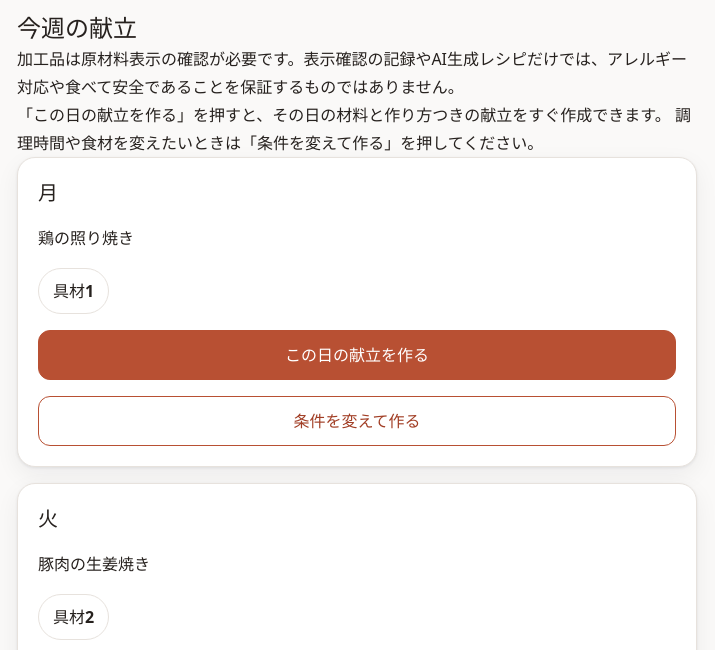
WeeklyPlanResultPage › shows an error when no household member is eligible for handoff
What coordinates should you click on to do the following:
click the button "この日の献立を作る" below "鶏の照り焼き"
I would click on:
 (357, 355)
Its box is [38,330,676,380].
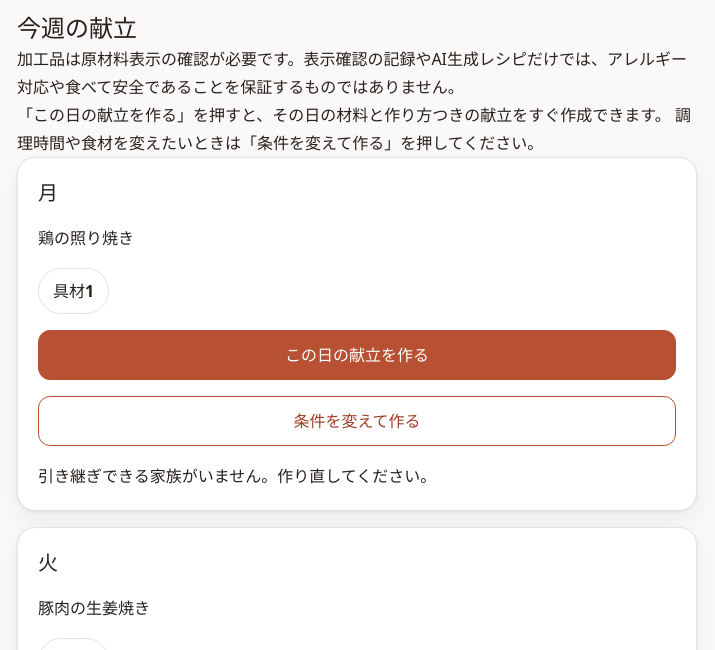
Now the text "引き継ぎできる家族がいません。作り直してください。" is shown, box [38,465,436,487]
